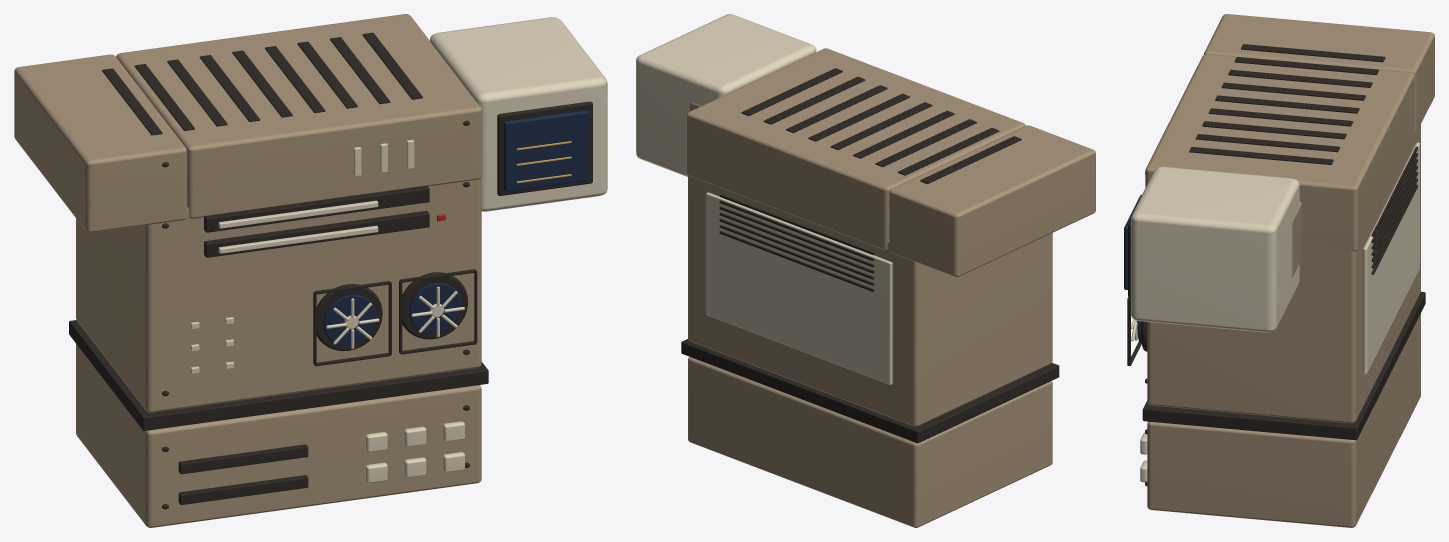
Rendered from asteroid-tracker.glb.
The picture shows the model from 3 angles, left to right: view 1: azimuth 30°, elevation 25°; view 2: azimuth 150°, elevation 25°; view 3: azimuth 270°, elevation 25°; orthographic projection. The views are drawn at different scales.
Parts seen in each view (by area): view 1: Main storage and cooling cabinet, Upper main electronics case, Lower calibration chassis, Left upper data-bank module, CRT deep monitor housing, Dark service separation, Rounded rectangular dark CRT screen, Front horizontal service recess, Front horizontal service recess.001, CRT black recessed aperture, Lower calibration slot.001, Lower calibration slot (+15 smaller); view 2: Main storage and cooling cabinet, Upper main electronics case, Lower calibration chassis, Rear service panel, Left upper data-bank module, CRT deep monitor housing, Dark service separation, Top cooling grille.007, Top cooling grille.001, Top cooling grille.003, Top cooling grille.004, Top cooling grille.005 (+11 smaller); view 3: Main storage and cooling cabinet, Upper main electronics case, CRT deep monitor housing, Lower calibration chassis, Left upper data-bank module, Rear service panel, Dark service separation, Top cooling grille.005, Top cooling grille.004, Top cooling grille.006, Top cooling grille.002, Top cooling grille.007 (+5 smaller).
Part boxes in pixels (x1,y1,x2,y2): Main storage and cooling cabinet: [76, 178, 481, 412]; Upper main electronics case: [116, 14, 482, 218]; Lower calibration chassis: [76, 344, 481, 527]; Left upper data-bank module: [14, 54, 187, 232]; CRT deep monitor housing: [430, 17, 607, 211]; Dark service separation: [69, 320, 488, 430]; Rounded rectangular dark CRT screen: [504, 110, 589, 191]; Front horizontal service recess: [204, 210, 429, 257]; Front horizontal service recess.001: [204, 185, 429, 232]; CRT black recessed aperture: [497, 101, 592, 195]; Lower calibration slot.001: [178, 444, 308, 474]; Lower calibration slot: [178, 475, 308, 504]; Main storage and cooling cabinet: [688, 175, 1052, 426]; Upper main electronics case: [686, 48, 1025, 250]; Lower calibration chassis: [688, 357, 1052, 527]; Rear service panel: [706, 192, 892, 384]; Left upper data-bank module: [889, 125, 1095, 277]; CRT deep monitor housing: [636, 14, 816, 176]; Dark service separation: [681, 339, 1059, 443]; Top cooling grille.007: [763, 76, 865, 124]; Top cooling grille.001: [897, 127, 999, 175]; Top cooling grille.003: [853, 110, 954, 158]; Top cooling grille.004: [830, 102, 932, 149]; Top cooling grille.005: [808, 93, 909, 141]; Main storage and cooling cabinet: [1147, 124, 1420, 423]; Upper main electronics case: [1145, 54, 1414, 251]; CRT deep monitor housing: [1131, 166, 1299, 332]; Lower calibration chassis: [1147, 313, 1420, 527]; Left upper data-bank module: [1204, 14, 1434, 134]; Rear service panel: [1363, 142, 1419, 374]; Dark service separation: [1142, 291, 1425, 440]; Top cooling grille.005: [1208, 108, 1353, 126]; Top cooling grille.004: [1215, 95, 1359, 113]; Top cooling grille.006: [1202, 121, 1346, 139]; Top cooling grille.002: [1228, 69, 1372, 87]; Top cooling grille.007: [1195, 134, 1340, 152].
Bounding box in the file's own units: 2.69 × 1.98 × 1.6.
